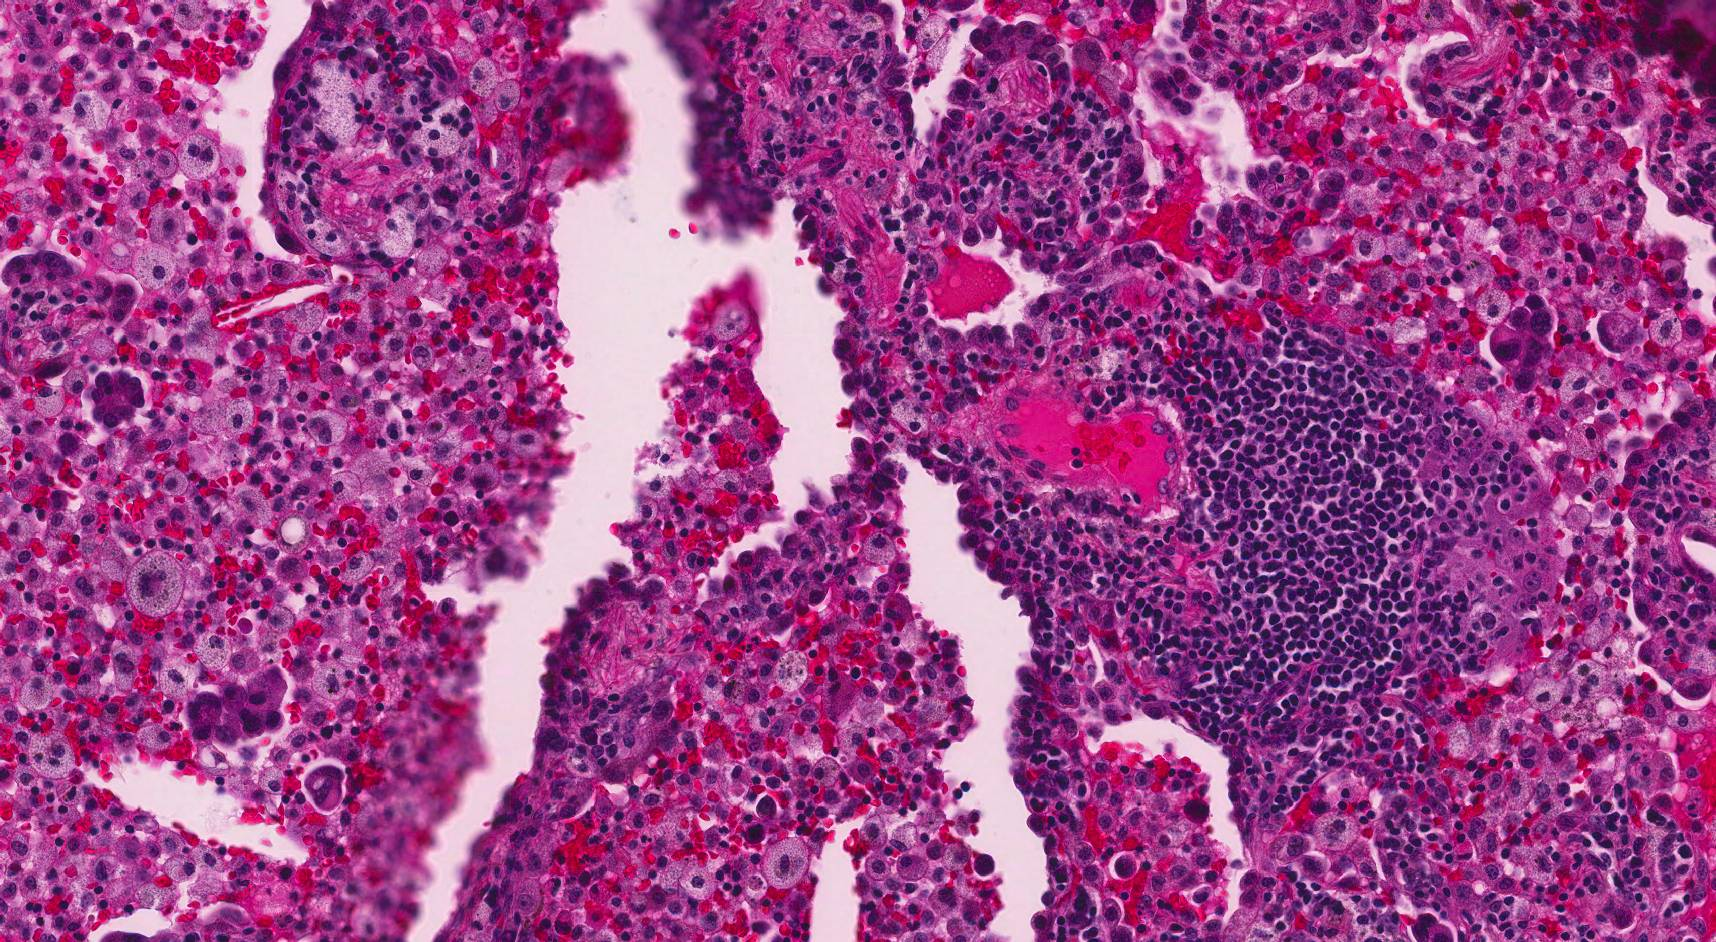stas: (186, 668, 288, 744), (1490, 293, 1557, 392), (91, 371, 145, 428), (305, 767, 345, 811)
